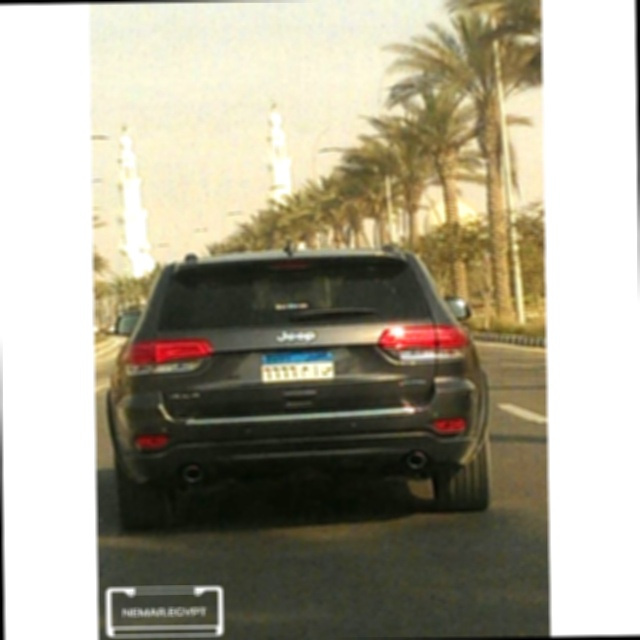License Plate: (256, 347, 338, 386)
